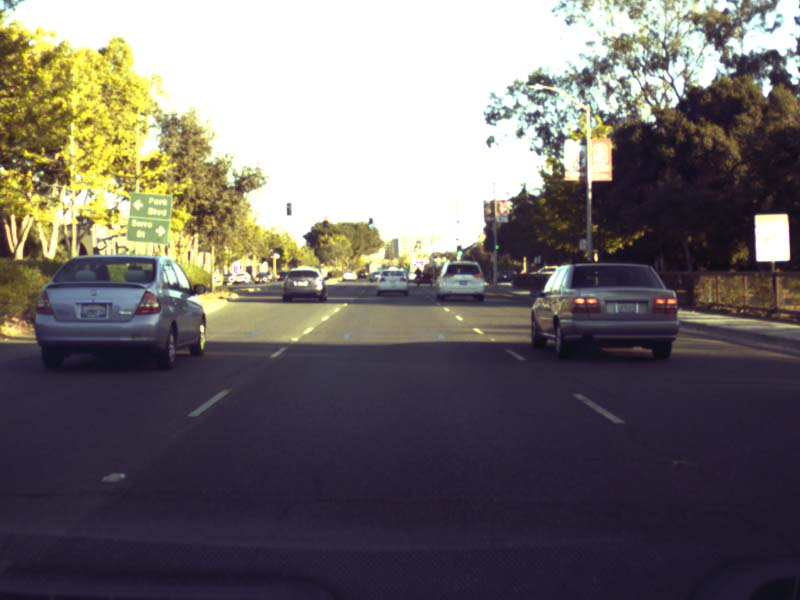Green: (456, 245, 462, 256), (368, 217, 373, 230), (494, 241, 499, 250)
Red: (322, 216, 328, 226), (269, 255, 272, 264)
